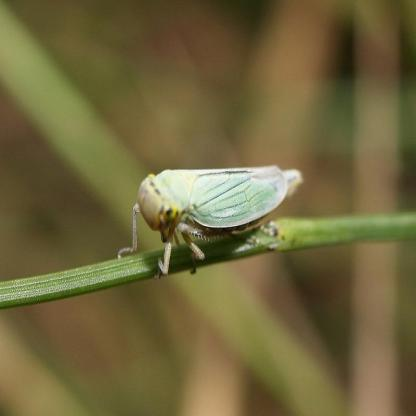Green-Leafhopper: (115, 160, 302, 286)
